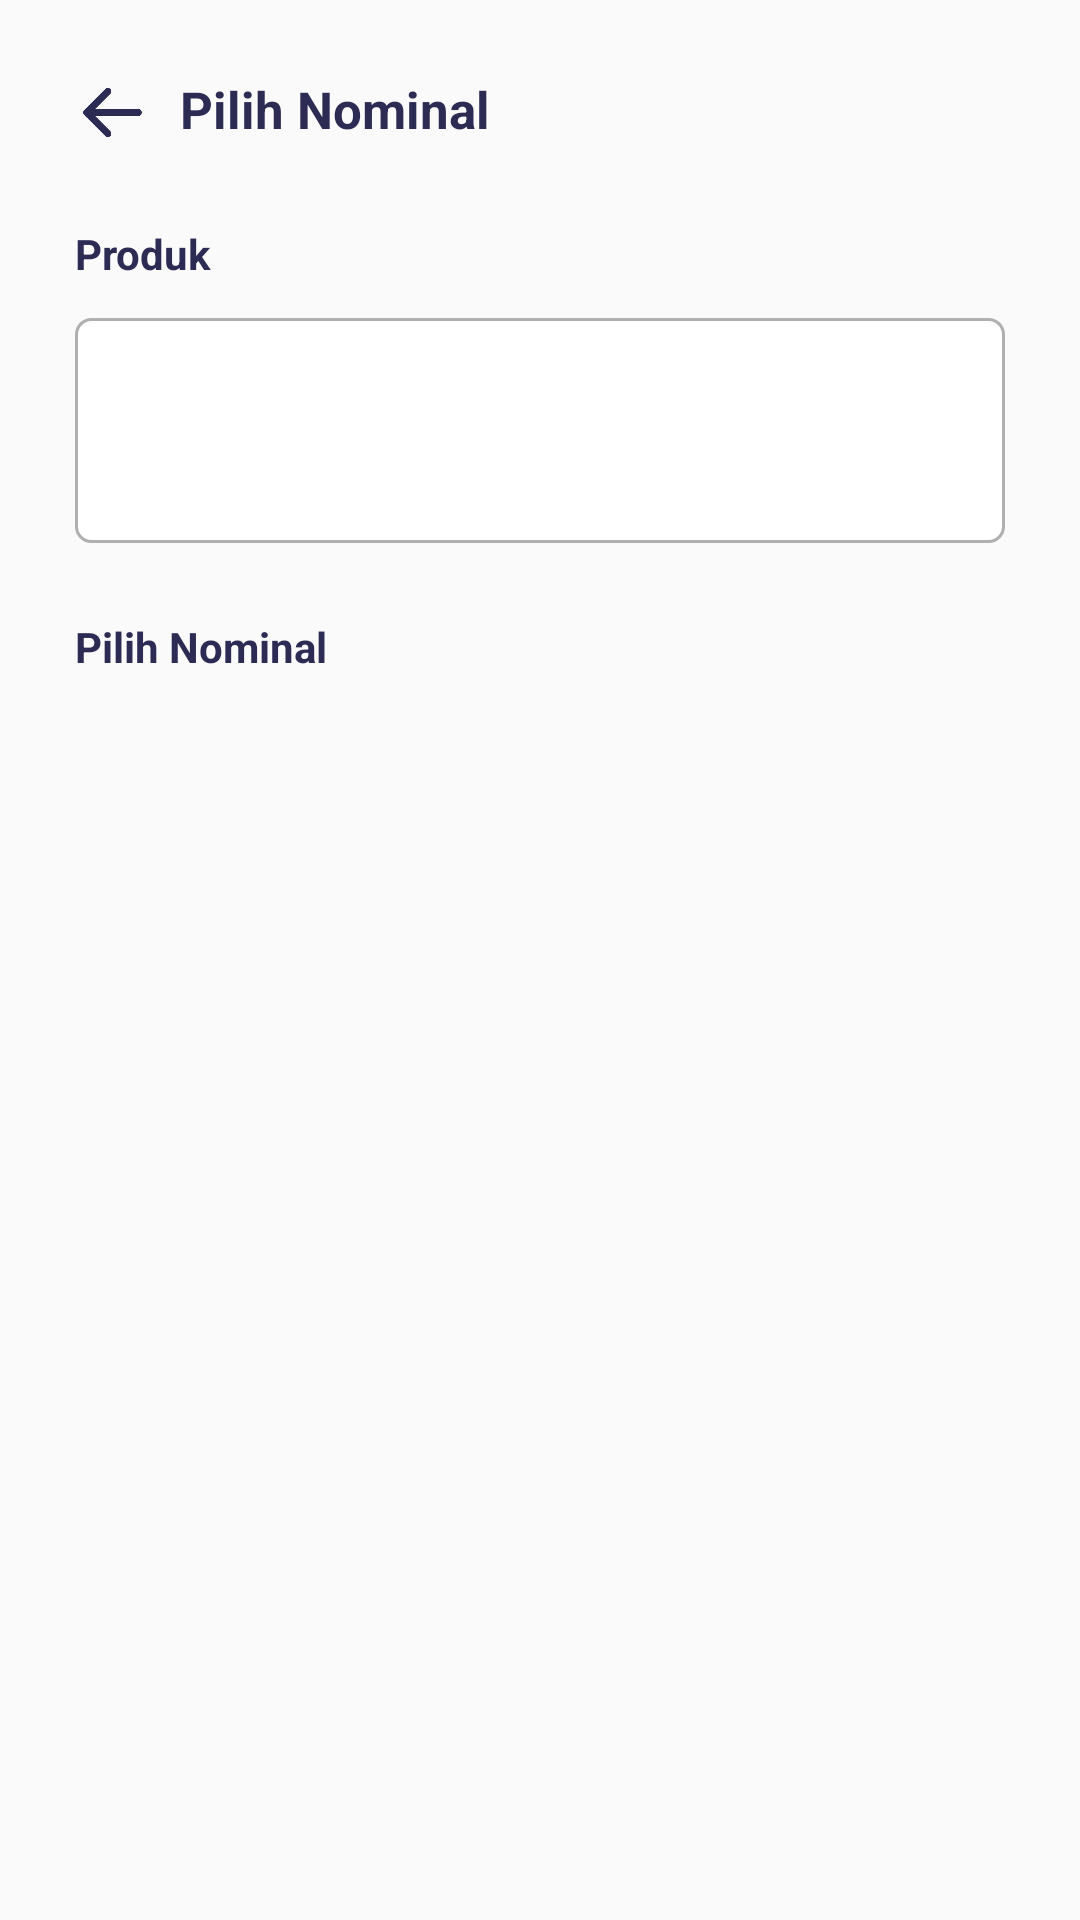

Icons on this 1080*1920 Android screen, each with its box as (x1, y1, x2, y2):
arrow back: (83, 88, 142, 137)
